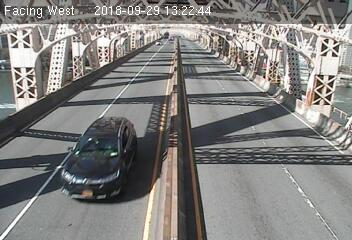car: (61, 116, 138, 202)
